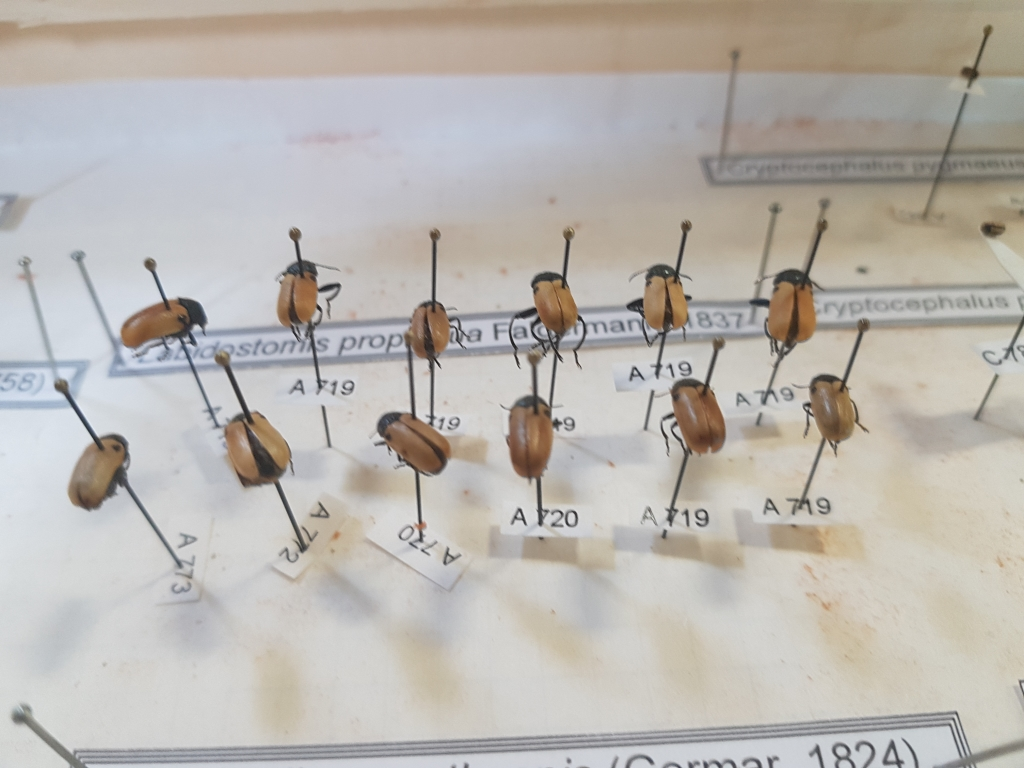Labidostomis_propinqua: (509, 265, 595, 379), (653, 369, 742, 466), (751, 258, 822, 362), (797, 365, 876, 456), (492, 386, 563, 479), (118, 289, 213, 357), (624, 260, 699, 346), (222, 406, 299, 488), (64, 422, 137, 506), (368, 407, 453, 478), (278, 256, 347, 329), (406, 299, 458, 366)
